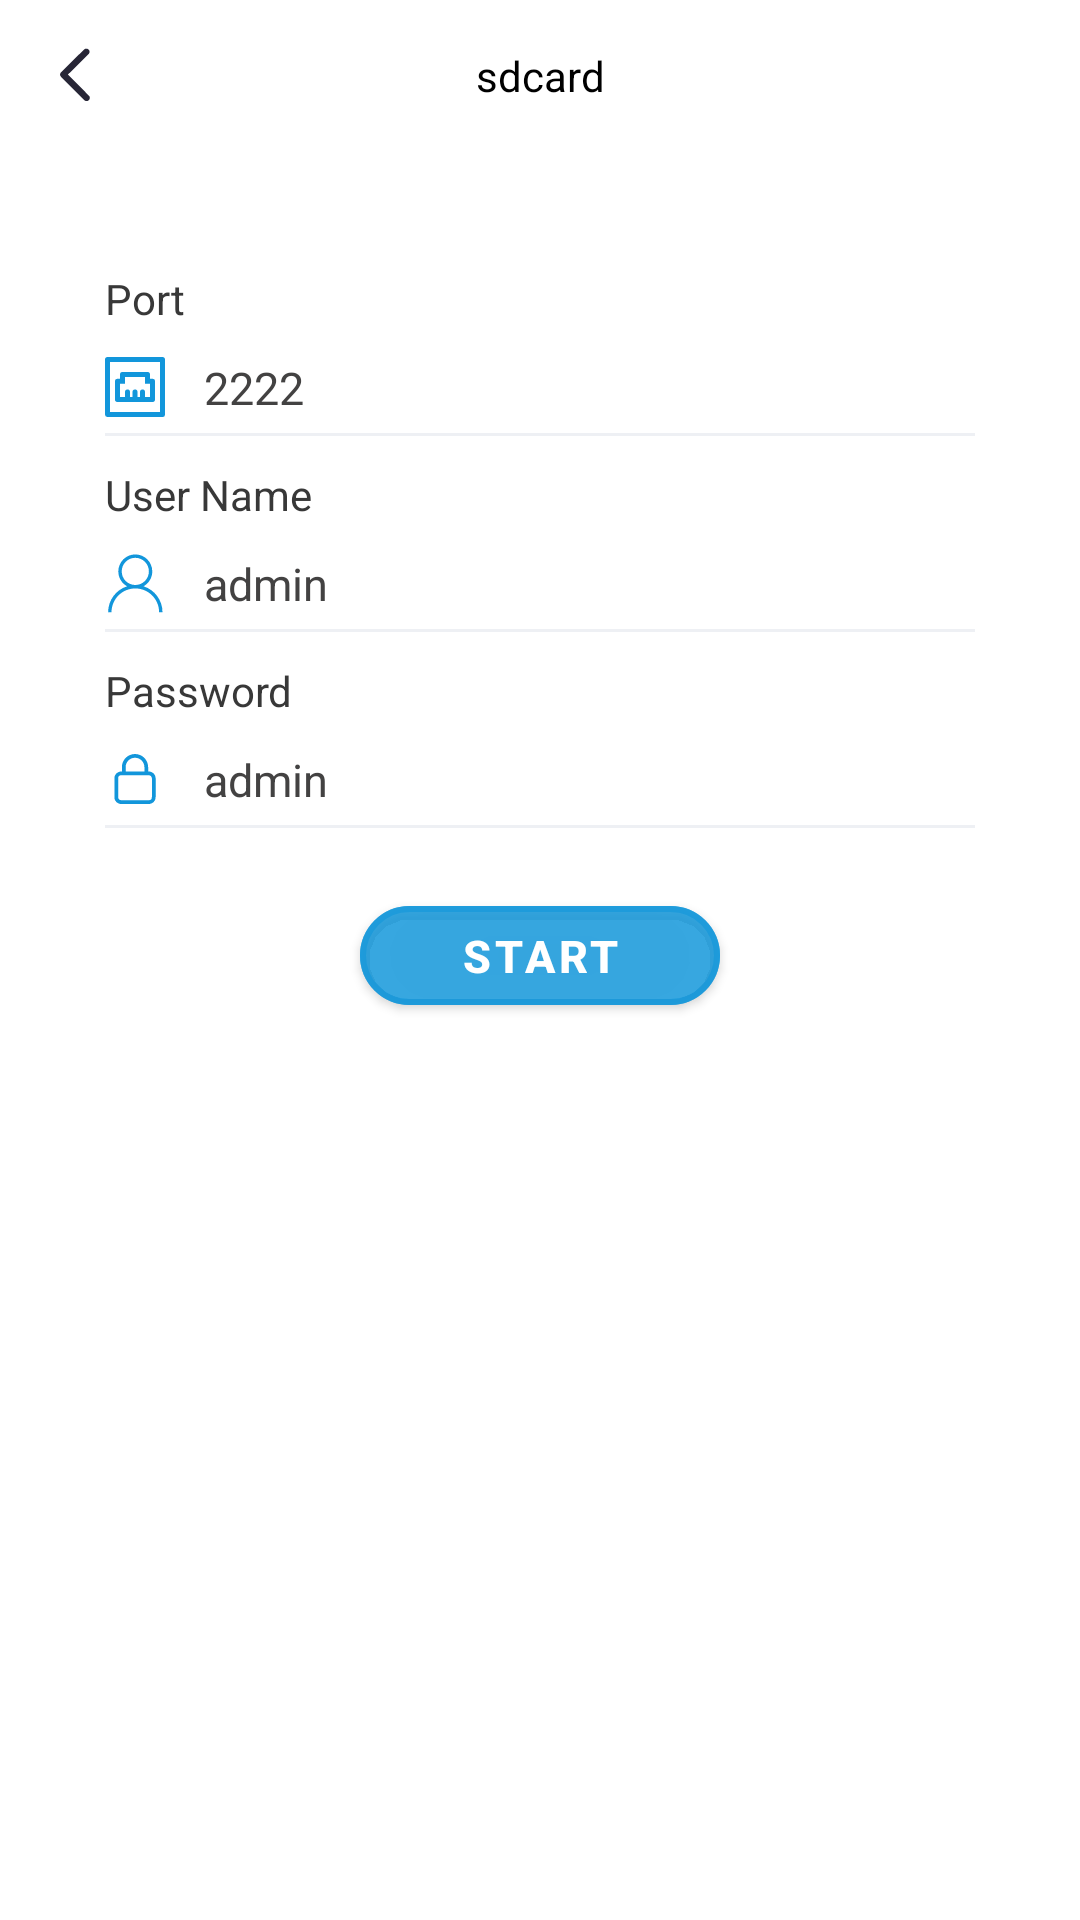

Icon bounding boxes for this 1080px×1920px phone screenshot, format (x1, y1, x2, y2):
left: (60, 48, 90, 101)
